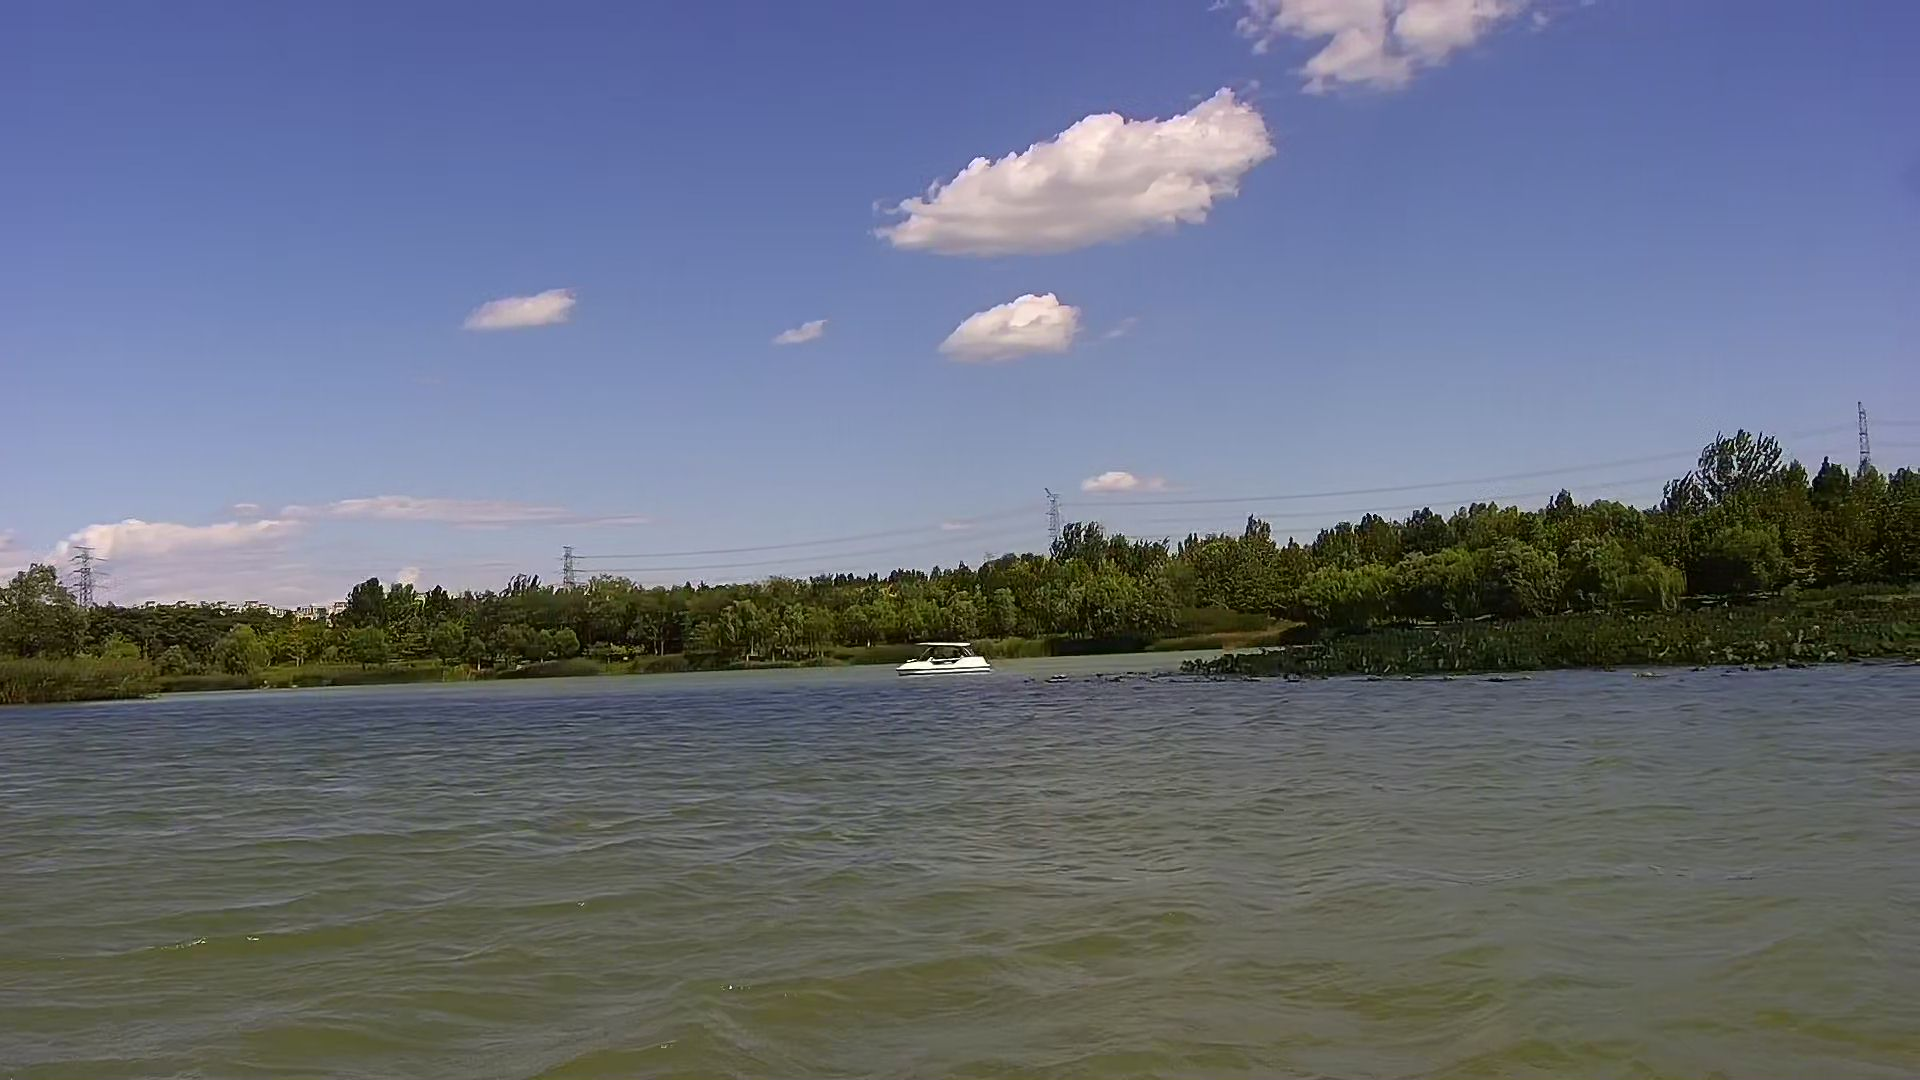boat: (891, 637, 997, 682)
